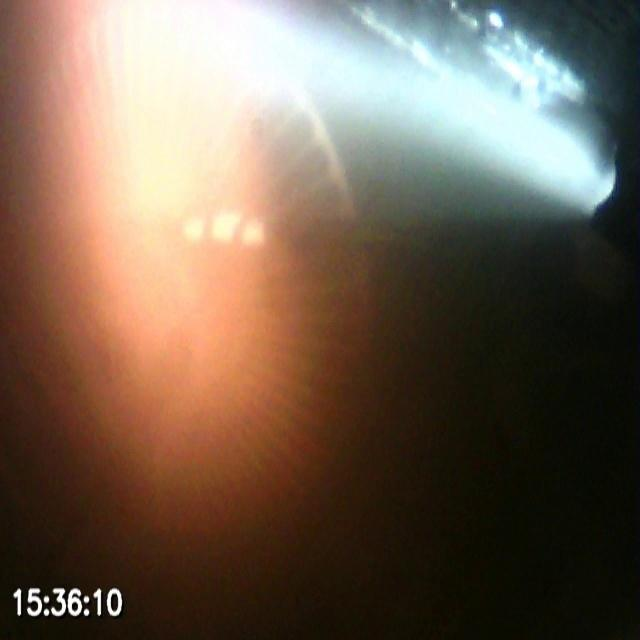white-dots: (180, 208, 266, 247)
